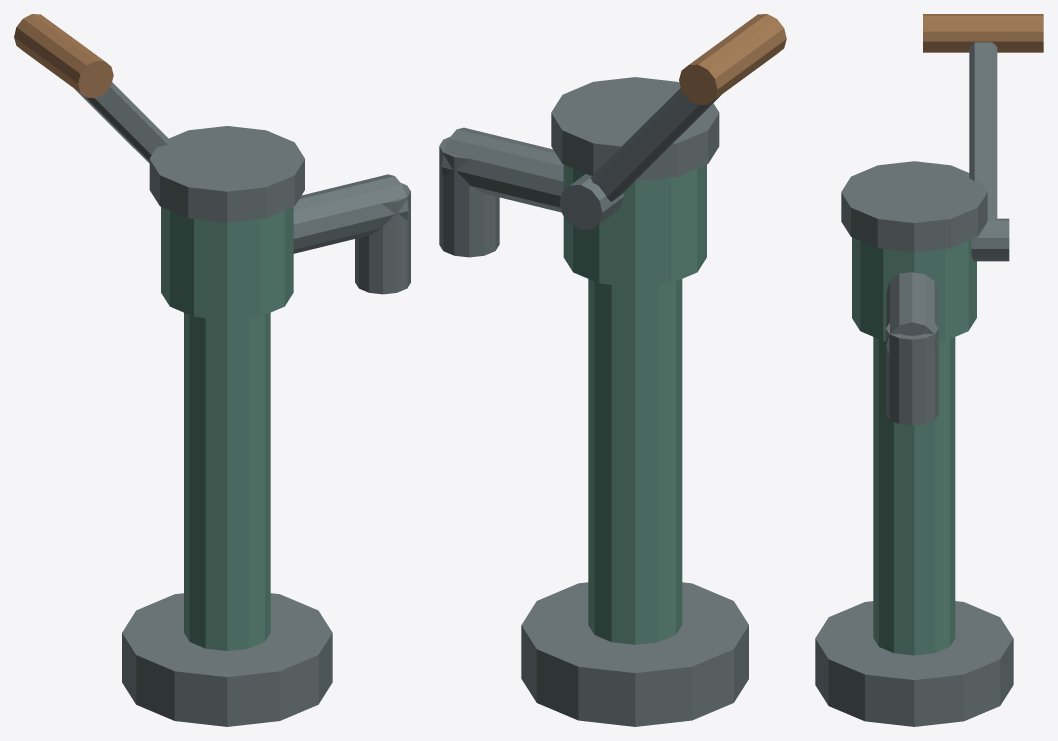
The picture shows the model from 3 angles, left to right: view 1: azimuth 30°, elevation 25°; view 2: azimuth 150°, elevation 25°; view 3: azimuth 270°, elevation 25°; orthographic projection. The views are drawn at different scales.
Visible parts, largest first — view 1: village-hand-pump-01; view 2: village-hand-pump-01; view 3: village-hand-pump-01.
Part boxes in pixels (x1,y1,x2,y2): village-hand-pump-01: (14,14,410,726); village-hand-pump-01: (439,14,786,726); village-hand-pump-01: (815,14,1043,726).
Bounding box in the file's own units: 0.816 × 1.56 × 0.53.
